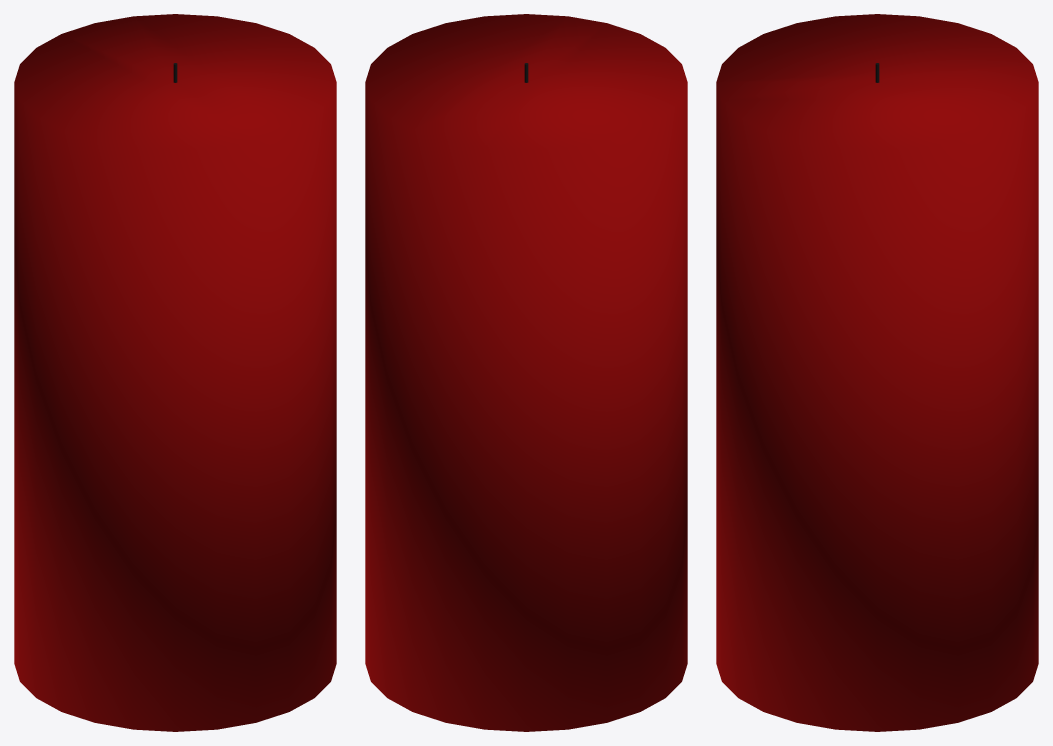
File: Festive Candle.fbx
3 views of the same model, side by side, from view 1: azimuth 30°, elevation 25°; view 2: azimuth 150°, elevation 25°; view 3: azimuth 270°, elevation 25° (orthographic).
Parts seen in each view (by area): view 1: Component_1; view 2: Component_1; view 3: Component_1.
Boxes of the visible parts, left/top/right/bottom form: Component_1: left=14, top=14, right=336, bottom=731; Component_1: left=365, top=14, right=687, bottom=731; Component_1: left=716, top=14, right=1038, bottom=731.
Bounding box in the file's own units: 3 × 3 × 6.16.
